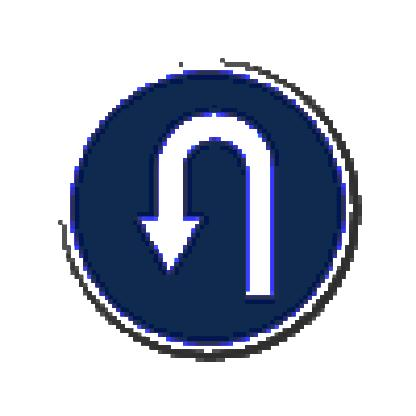U-turn: (67, 68, 358, 358)
